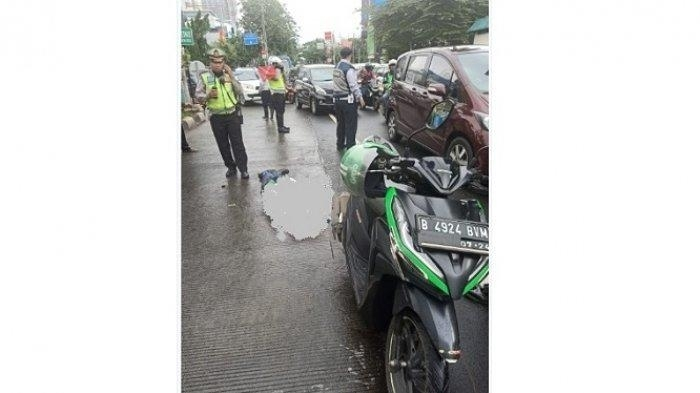plate: (418, 216, 488, 254)
